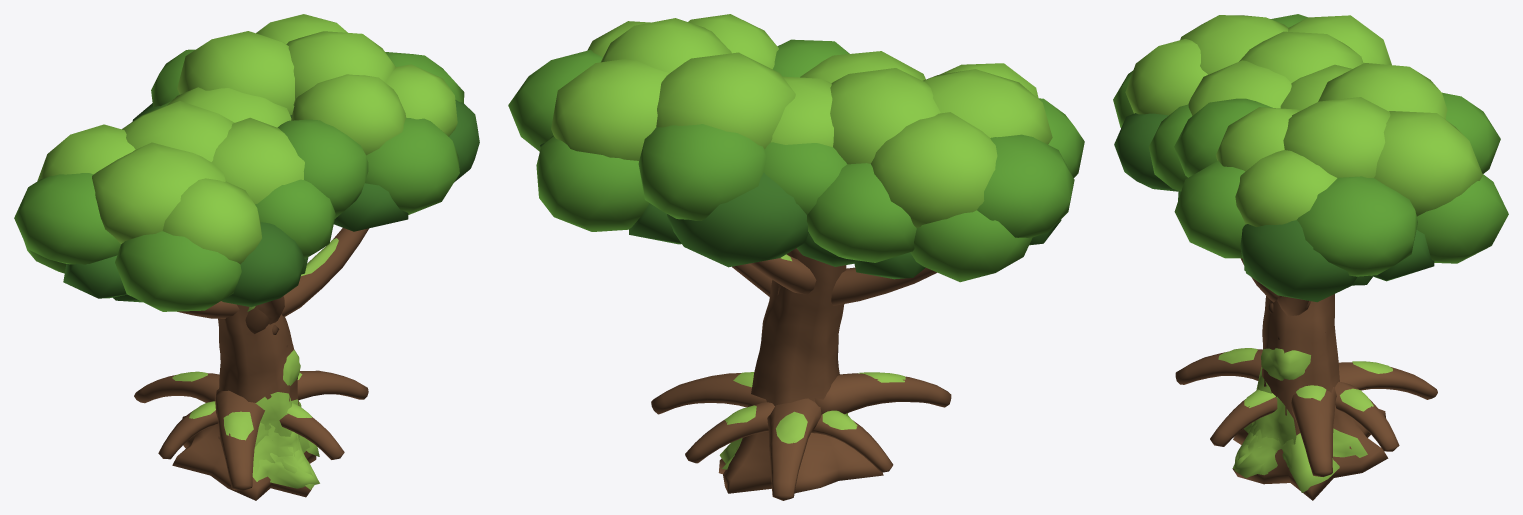
File: arbol_musgoso_v05_lod1.glb
The picture shows the model from 3 angles, left to right: view 1: azimuth 30°, elevation 25°; view 2: azimuth 150°, elevation 25°; view 3: azimuth 270°, elevation 25°; orthographic projection. The views are drawn at different scales.
Parts seen in each view (by area): view 1: Arbol_musgoso_v05_LOD1; view 2: Arbol_musgoso_v05_LOD1; view 3: Arbol_musgoso_v05_LOD1.
Boxes of the visible parts, <box> form: Arbol_musgoso_v05_LOD1: <box>14,14,479,500</box>; Arbol_musgoso_v05_LOD1: <box>508,14,1084,500</box>; Arbol_musgoso_v05_LOD1: <box>1113,14,1508,500</box>.
Size of the model in its own units: 57.26 by 48.12 by 41.77.
